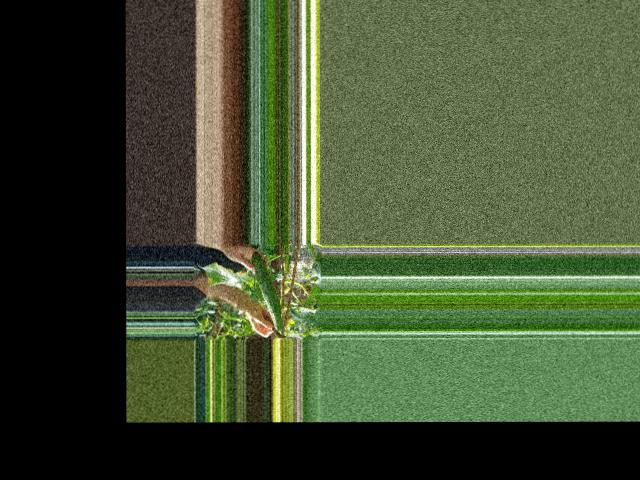cucumber: (251, 251, 281, 329)
